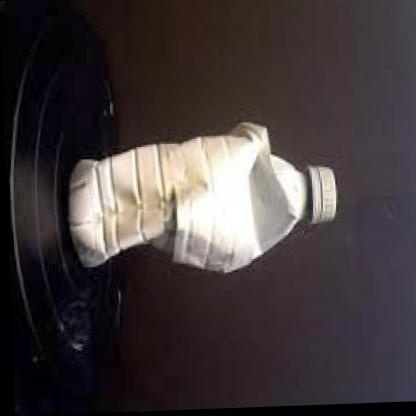trash: (69, 123, 336, 271)
